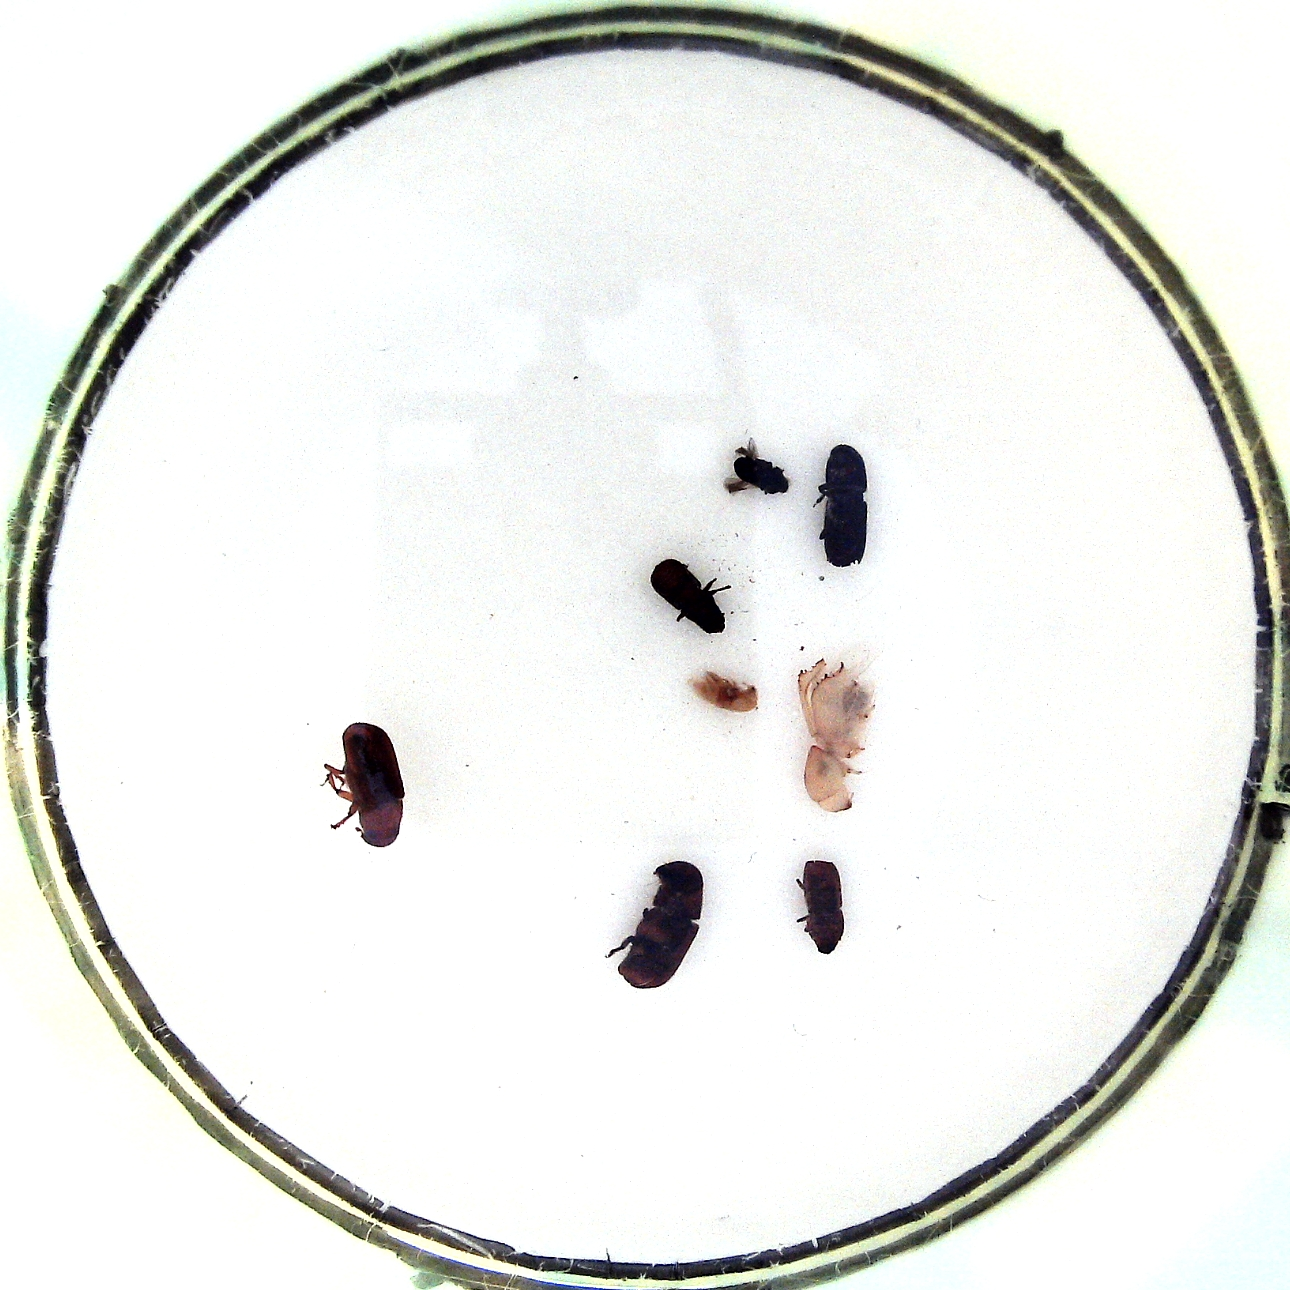Boerner: (791, 650, 880, 819), (816, 443, 872, 571)
Leconte: (598, 851, 706, 997), (315, 719, 406, 855)
Linnaeus: (793, 860, 847, 956)
acuminatus: (685, 671, 762, 714)
armandi: (641, 558, 736, 632)
coleoptera: (719, 443, 791, 499)
